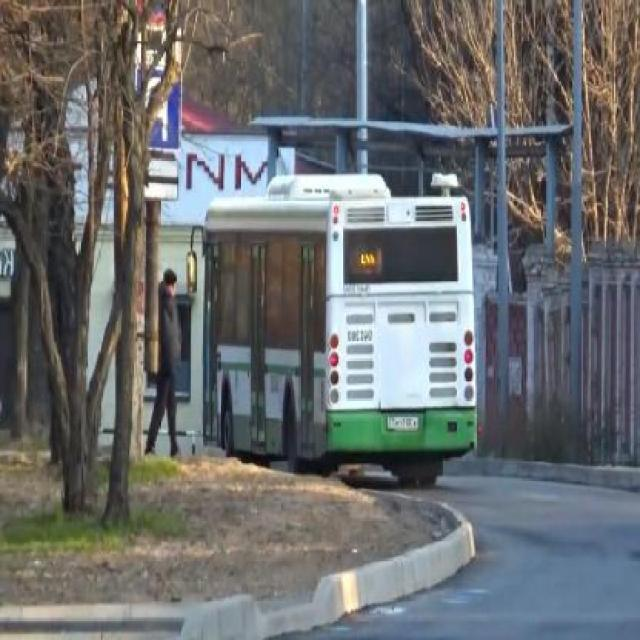bus: (201, 169, 474, 485)
